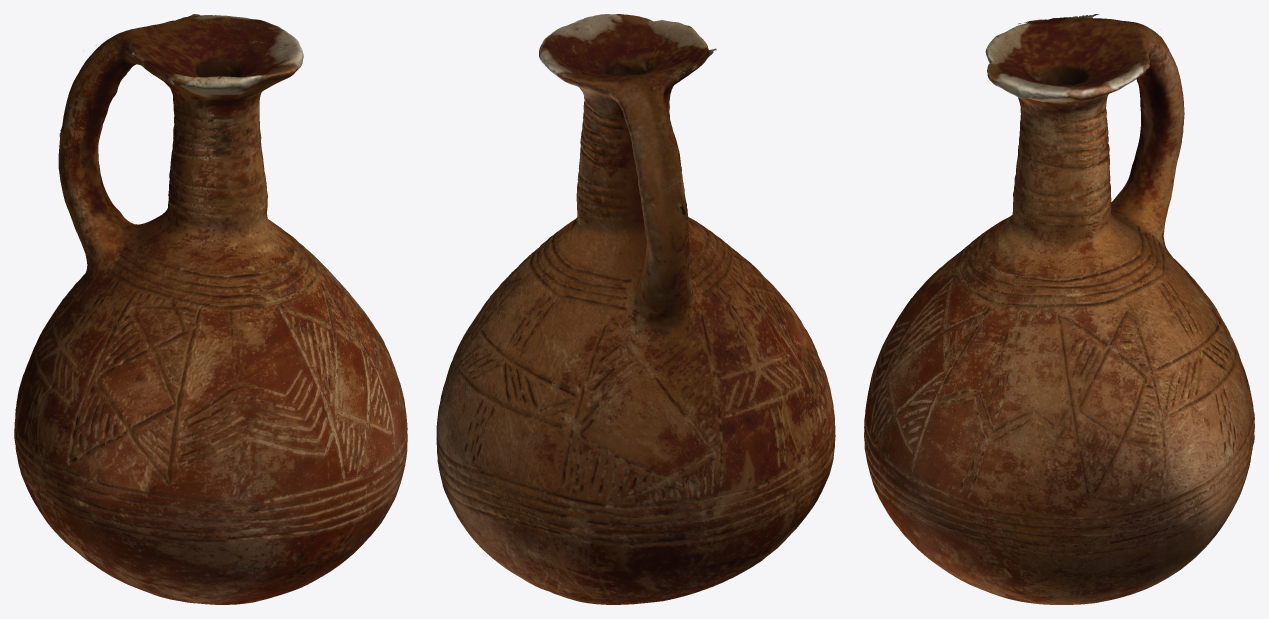
The model's file is cy-bottle.glb.
The picture shows the model from 3 angles, left to right: view 1: azimuth 30°, elevation 25°; view 2: azimuth 150°, elevation 25°; view 3: azimuth 270°, elevation 25°; orthographic projection.
Parts seen in each view (by area): view 1: Object_2; view 2: Object_2; view 3: Object_2.
Part boxes in pixels (left/top/right/bottom): Object_2: left=14, top=14, right=407, bottom=604; Object_2: left=436, top=14, right=835, bottom=604; Object_2: left=864, top=14, right=1254, bottom=604.
Size of the model in its own units: 1.4 by 2.1 by 1.39.
1 material, 1 textured.
